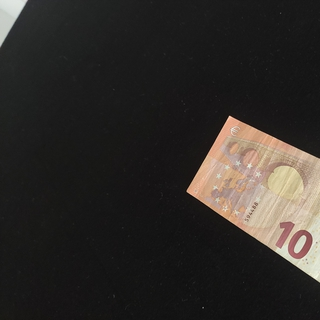10EUROBack: (185, 114, 320, 299)
